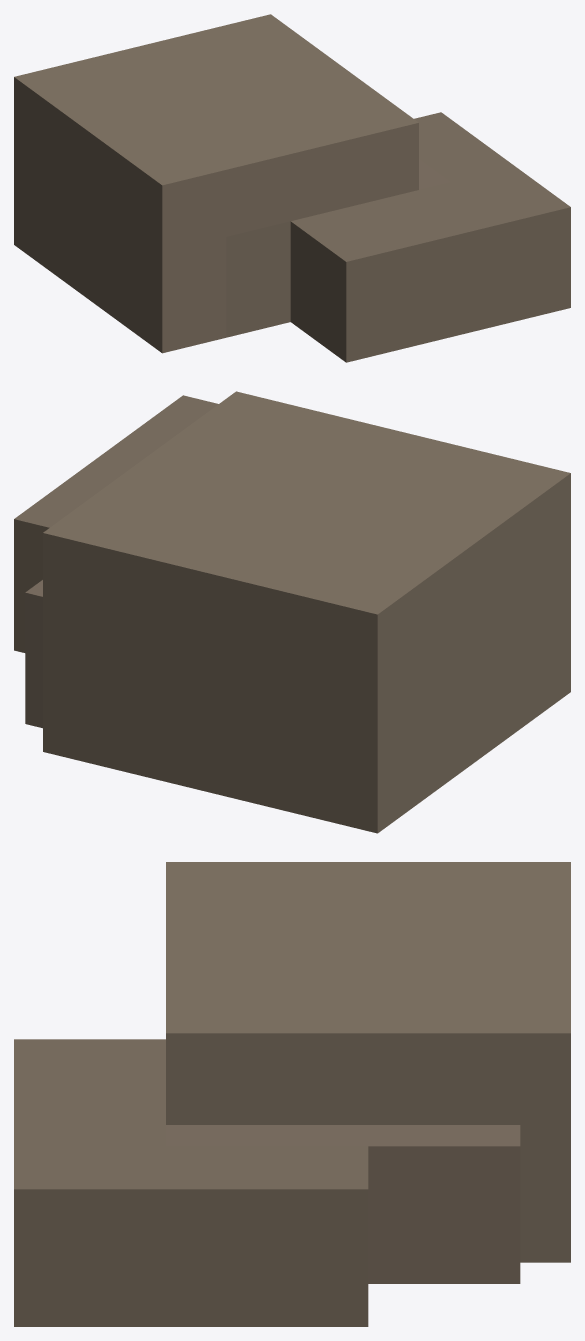
File: turba_01.glb
The picture shows the model from 3 angles, top to bottom: view 1: azimuth 30°, elevation 25°; view 2: azimuth 150°, elevation 25°; view 3: azimuth 270°, elevation 25°; orthographic projection. The views are drawn at different scales.
Visible parts, largest first — view 1: turba_01; view 2: turba_01; view 3: turba_01.
Boxes of the visible parts, left/top/right/bottom form: turba_01: left=14, top=14, right=570, bottom=362; turba_01: left=14, top=391, right=570, bottom=833; turba_01: left=14, top=862, right=570, bottom=1326.
Size of the model in its own units: 1.1 by 0.5 by 1.1.
